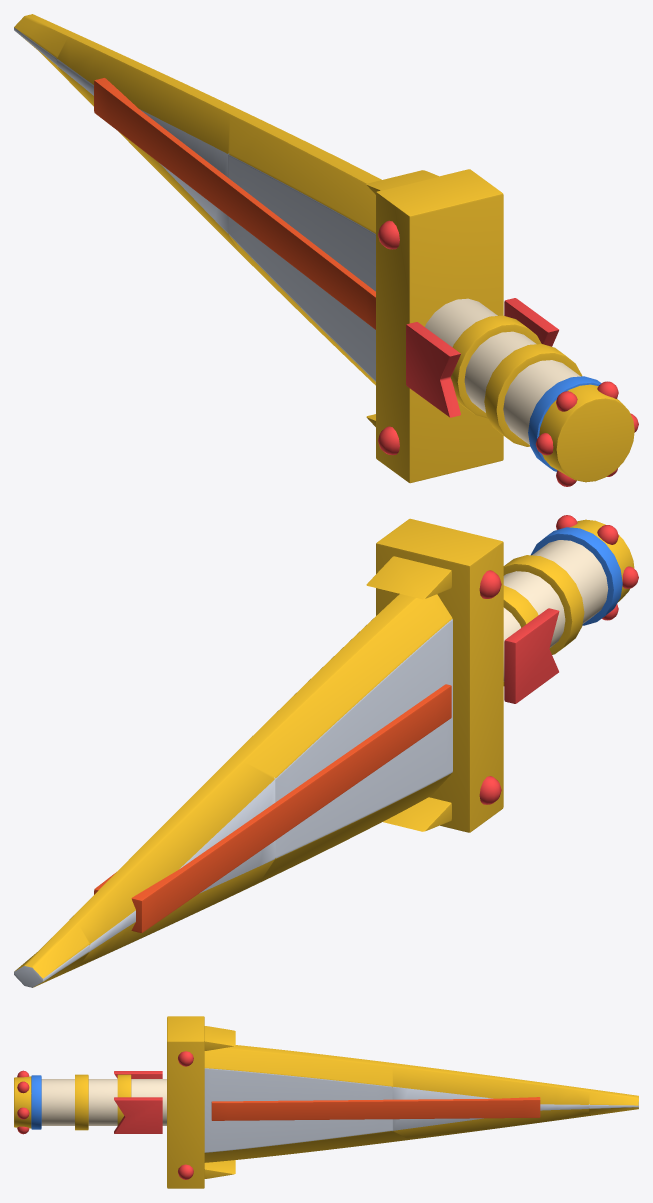
File: Sword_PitSovereign.glb
The picture shows the model from 3 angles, top to bottom: view 1: azimuth 30°, elevation 25°; view 2: azimuth 150°, elevation 25°; view 3: azimuth 270°, elevation 25°; orthographic projection. The views are drawn at different scales.
Parts seen in each view (by area): view 1: Sword_PitSovereign; view 2: Sword_PitSovereign; view 3: Sword_PitSovereign.
Boxes of the visible parts, box(x1,y1,x2,y2) form: Sword_PitSovereign: box(14, 14, 638, 486); Sword_PitSovereign: box(14, 515, 638, 987); Sword_PitSovereign: box(14, 1016, 638, 1188).
Bounding box in the file's own units: 0.122 × 0.26 × 1.
Materials: 1 (1 with a texture image).
